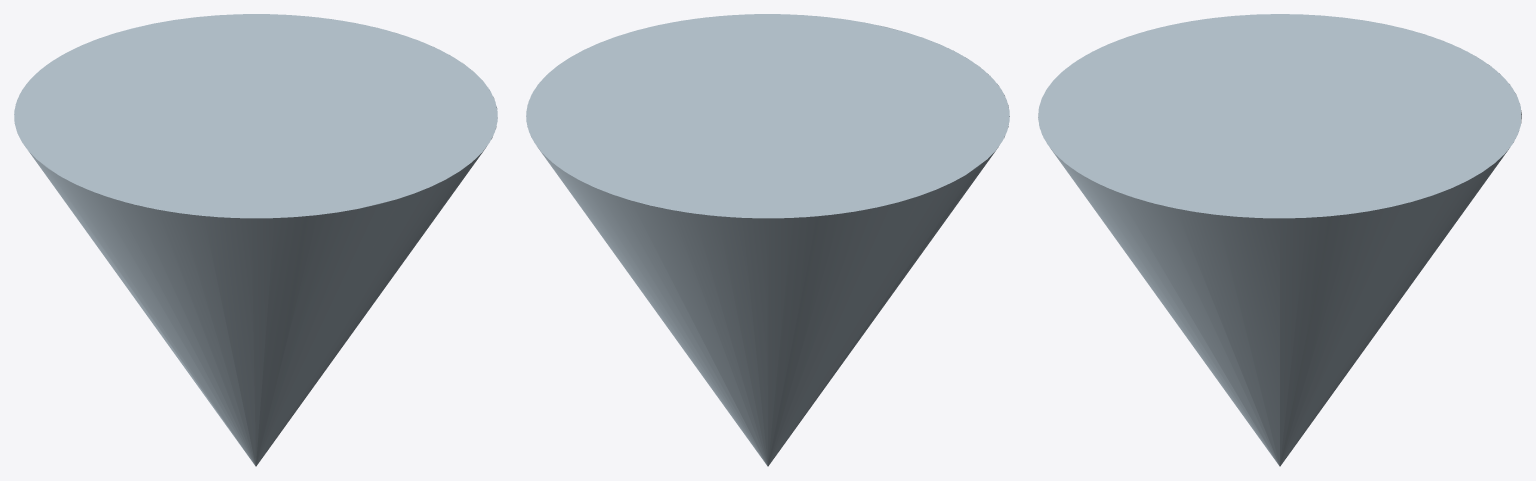
File: yuanzhui.FBX
The picture shows the model from 3 angles, left to right: view 1: azimuth 30°, elevation 25°; view 2: azimuth 150°, elevation 25°; view 3: azimuth 270°, elevation 25°; orthographic projection.
Parts seen in each view (by area): view 1: TRM_SRF (×3); view 2: TRM_SRF (×3); view 3: TRM_SRF (×3).
Part boxes in pixels (left/top/right/bottom): TRM_SRF (×3): left=14, top=14, right=497, bottom=466; TRM_SRF (×3): left=526, top=14, right=1009, bottom=466; TRM_SRF (×3): left=1038, top=14, right=1521, bottom=466.
Bounding box in the file's own units: 39.37 × 31.5 × 39.37.
